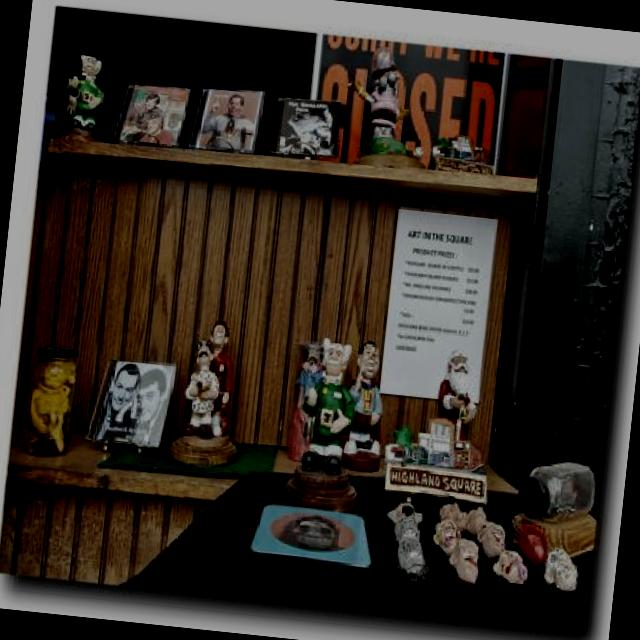Person: (293, 338, 362, 479), (346, 339, 388, 464), (197, 316, 238, 437), (288, 339, 328, 462), (434, 349, 481, 449), (180, 336, 222, 443), (95, 356, 143, 443), (126, 362, 172, 450), (200, 85, 258, 154), (61, 51, 110, 130), (276, 102, 336, 154), (138, 105, 178, 147), (132, 92, 160, 138)
